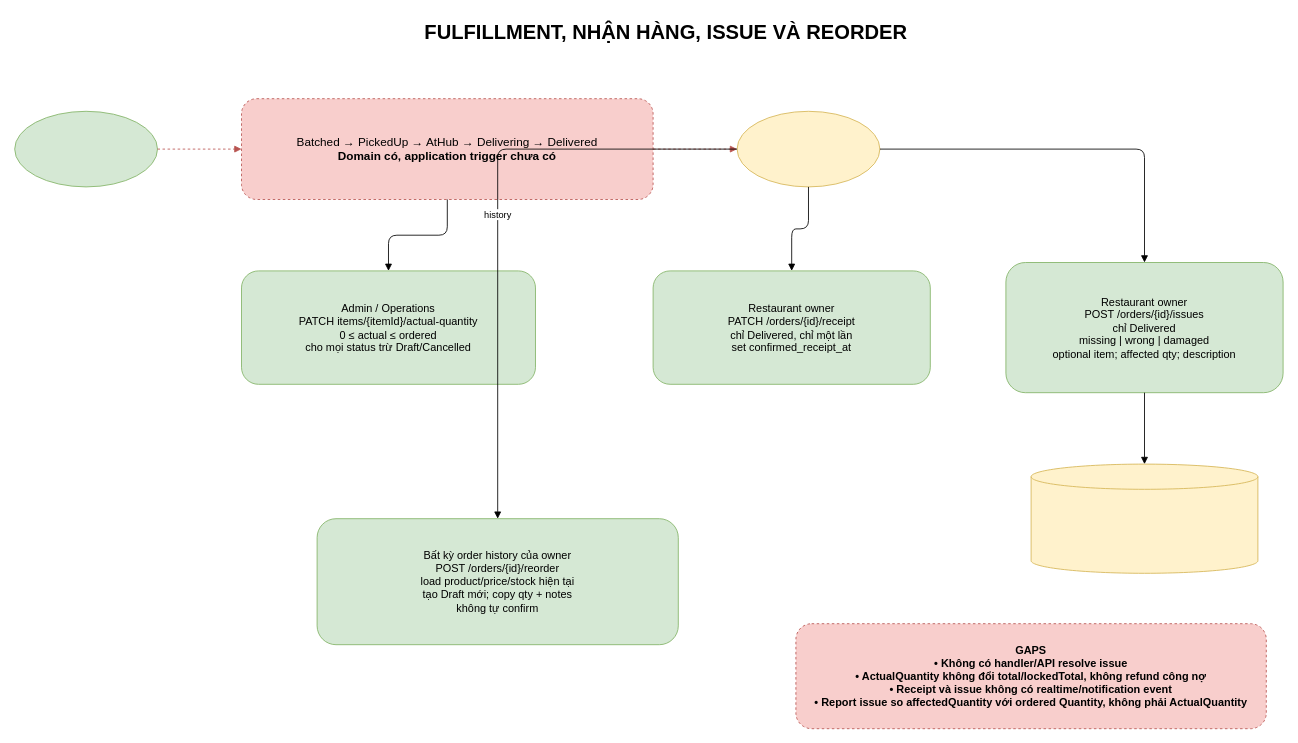
Image size: 1298x743. Some labels were removed from this diagram. Here are the shapes that lost their labels. From the top down, the centre of each, then its label:
At point (86, 148): "CONFIRMED".
At point (808, 148): "DELIVERED".
At point (1144, 518): "order_issues status = open Resolve() có trong entity".
